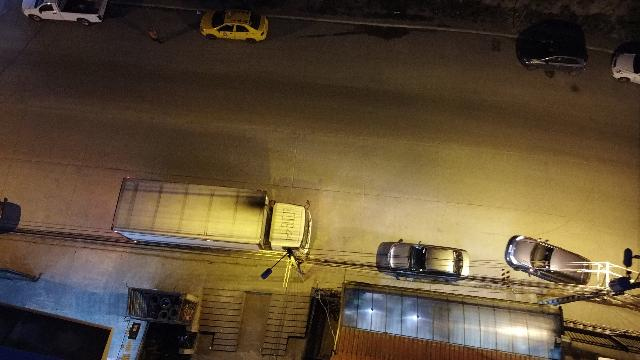Vehiculo: (505, 235, 591, 285), (516, 18, 588, 76), (376, 241, 469, 283), (200, 8, 268, 42), (22, 0, 108, 26), (610, 41, 640, 84)
